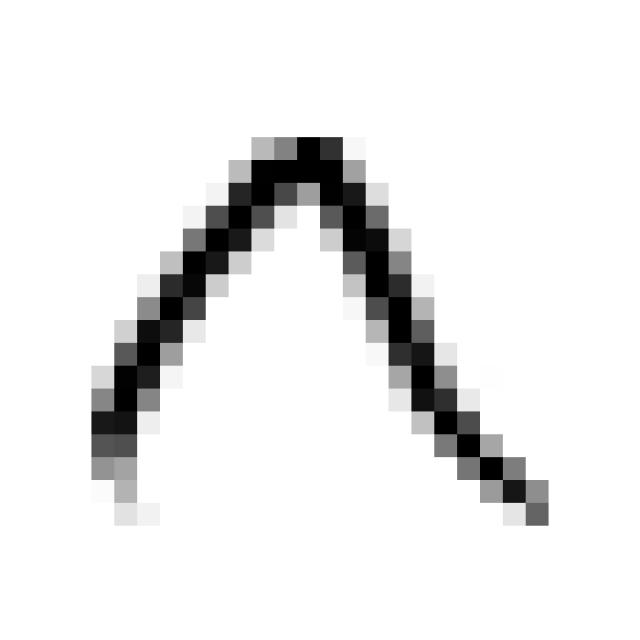8 -eight-: (71, 94, 570, 554)
